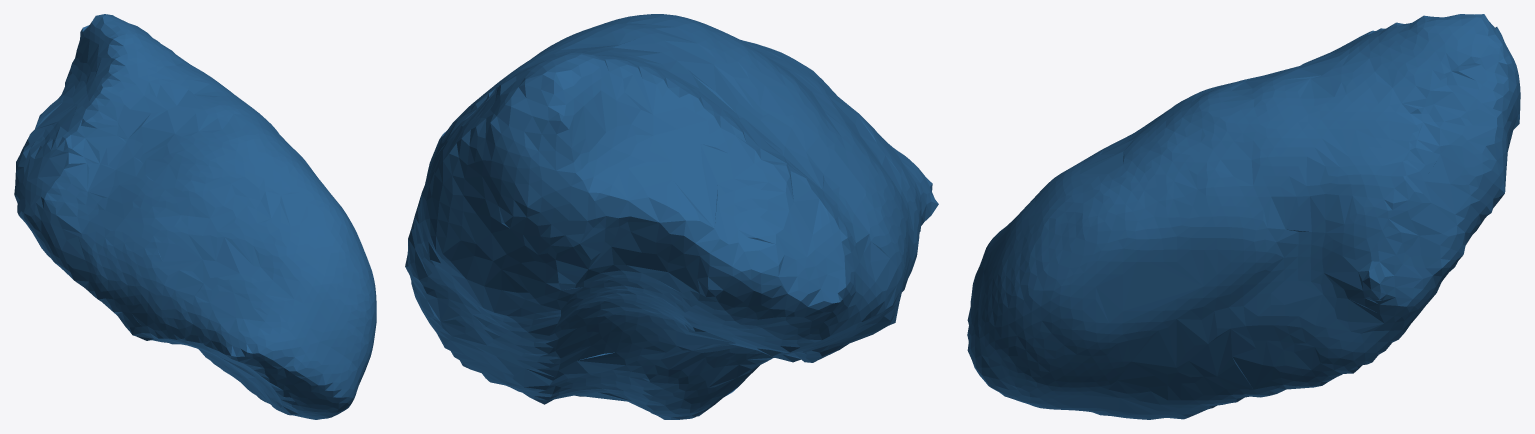
Rendered from Model_331_RH__Dorsal_lateral_geniculate_nucleus_(DLG).obj.
3 views of the same model, side by side, from view 1: azimuth 30°, elevation 25°; view 2: azimuth 150°, elevation 25°; view 3: azimuth 270°, elevation 25° (orthographic). The views are drawn at different scales.
Size of the model in its own units: 2.69 by 3.12 by 4.11.
